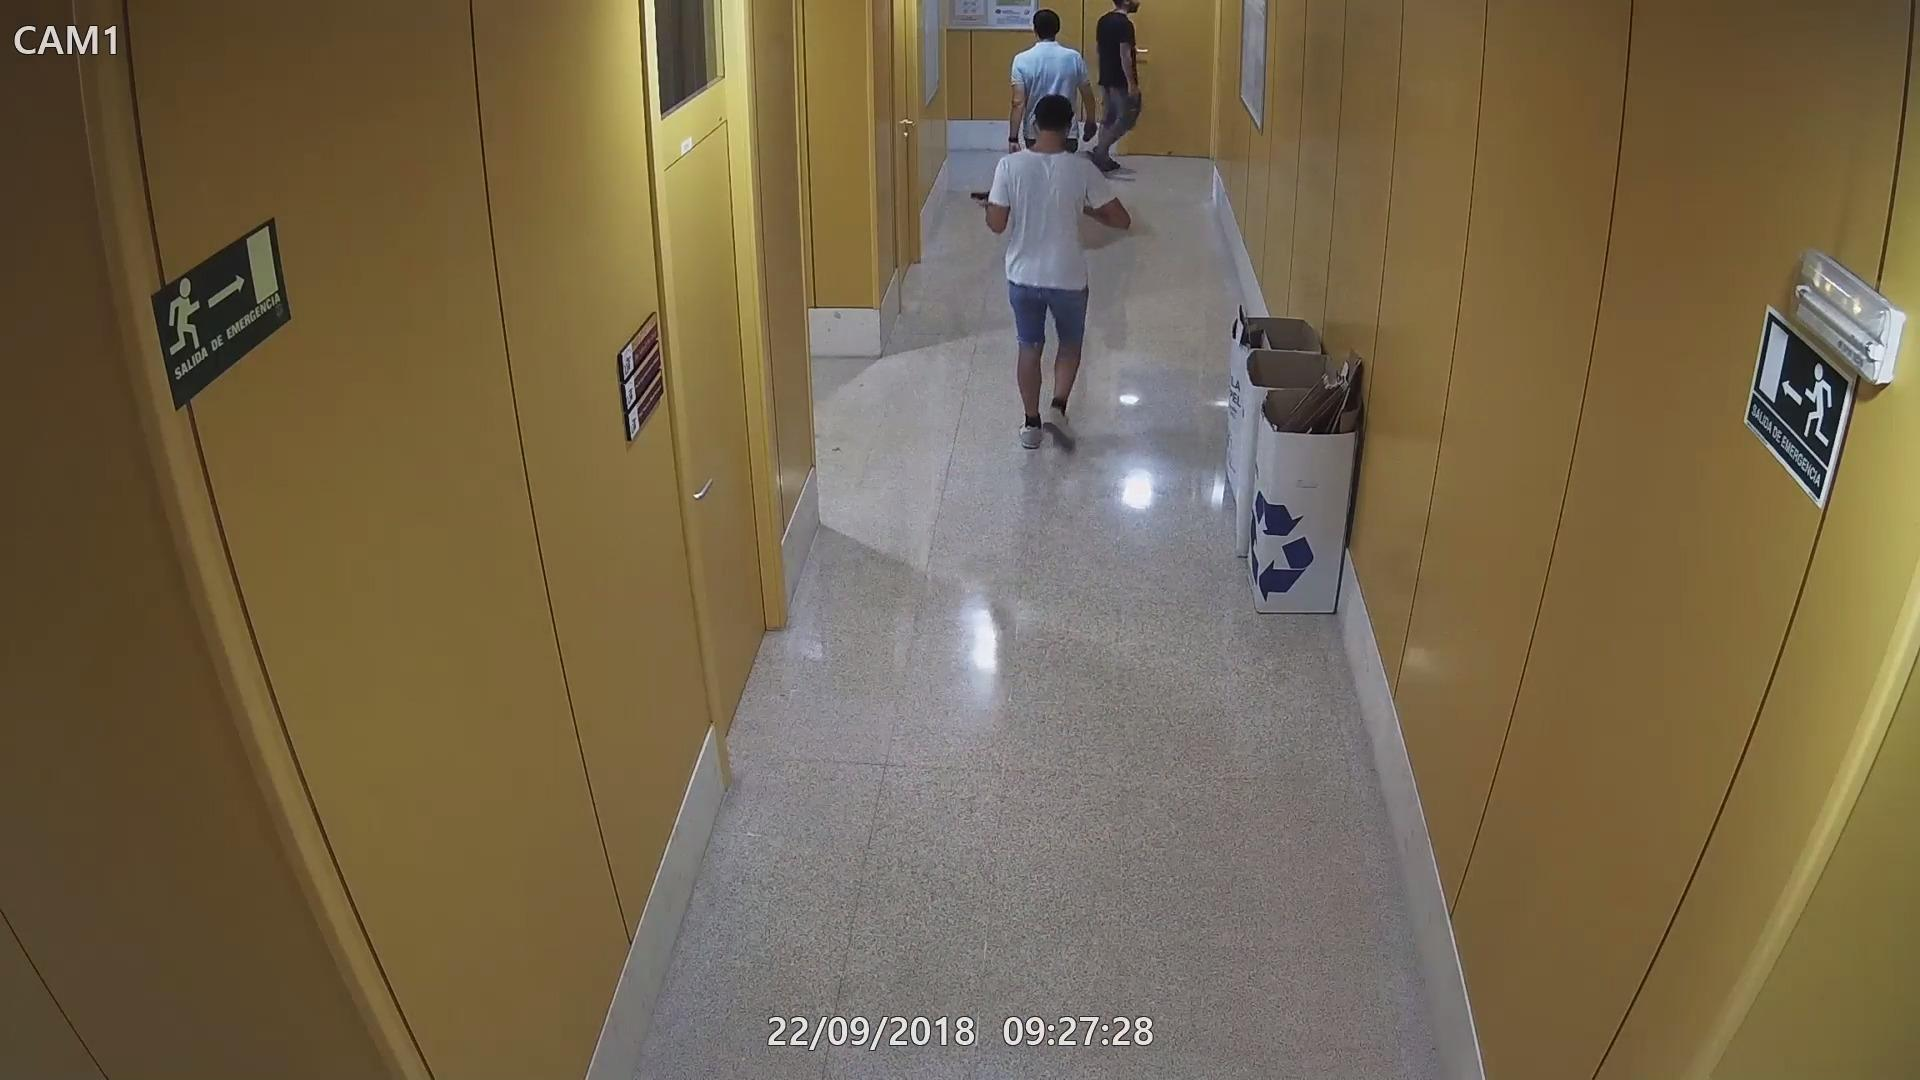Handgun: (1121, 79, 1147, 105)
